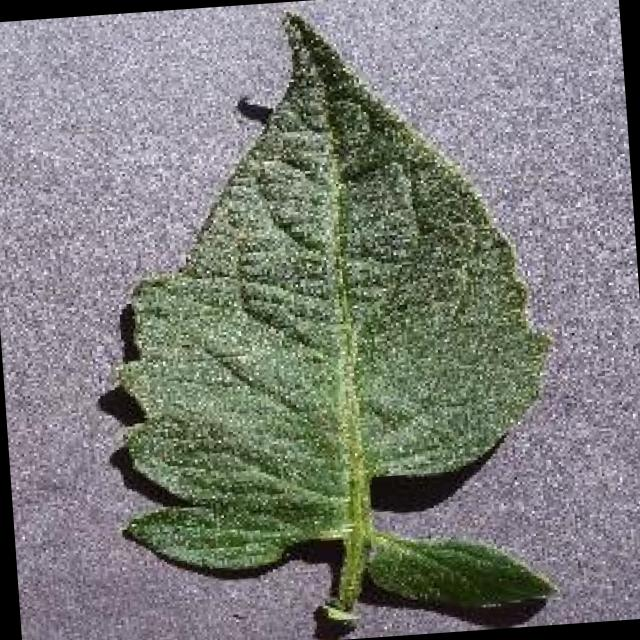Tomato_Healthy: (37, 0, 600, 640)
